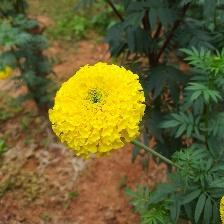marigold: (48, 59, 151, 153)
